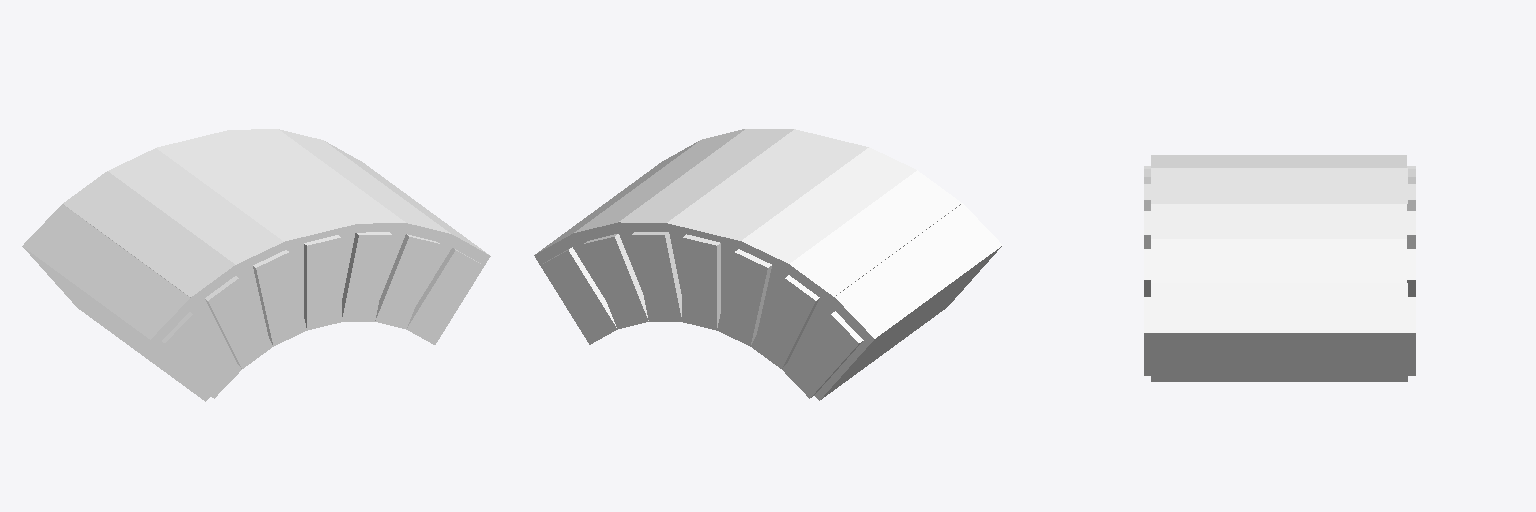
Rendered from lime_mortar_orange_clay_brick_segmental_arch_1.obj.
3 views of the same model, side by side, from view 1: azimuth 30°, elevation 25°; view 2: azimuth 150°, elevation 25°; view 3: azimuth 270°, elevation 25° (orthographic).
Visible parts, largest first — view 1: cube.005, cube.002, cube.004, cube.003, cube.001, cube.000, brick, brick.001, brick.002, brick.000, brick.003, brick.004 (+2 smaller); view 2: cube.005, cube.002, cube.004, cube.003, cube.001, brick, brick.001, brick.000, brick.002, brick.003, cube.000, brick.005 (+2 smaller); view 3: cube, cube.000, cube.002, cube.001, cube.003, brick, brick.000, brick.002.
Boxes of the visible parts, x1,y1,x2,y2 form: cube.005: [22, 204, 236, 401]; cube.002: [157, 130, 357, 313]; cube.004: [63, 171, 238, 332]; cube.003: [108, 148, 285, 336]; cube.001: [231, 129, 406, 280]; cube.000: [279, 129, 450, 304]; brick: [406, 248, 482, 344]; brick.001: [304, 235, 341, 330]; brick.002: [342, 232, 392, 321]; brick.000: [375, 234, 439, 328]; brick.003: [253, 250, 306, 346]; brick.004: [86, 221, 272, 368]; cube.005: [814, 203, 1002, 400]; cube.002: [666, 129, 868, 309]; cube.004: [757, 170, 961, 361]; cube.003: [741, 147, 916, 320]; cube.001: [618, 129, 793, 291]; brick: [541, 247, 617, 344]; brick.001: [682, 234, 720, 330]; brick.000: [584, 234, 648, 328]; brick.002: [631, 232, 681, 321]; brick.003: [717, 249, 771, 346]; cube.000: [573, 129, 744, 259]; brick.005: [782, 311, 863, 398]; cube: [1151, 283, 1407, 381]; cube.000: [1151, 239, 1406, 282]; cube.002: [1151, 168, 1407, 203]; cube.001: [1151, 204, 1406, 238]; cube.003: [1151, 155, 1406, 167]; brick: [1144, 297, 1415, 375]; brick.000: [1144, 249, 1415, 296]; brick.002: [1144, 211, 1415, 248].
Size of the model in its own units: 1.55 by 0.6108 by 1.07.